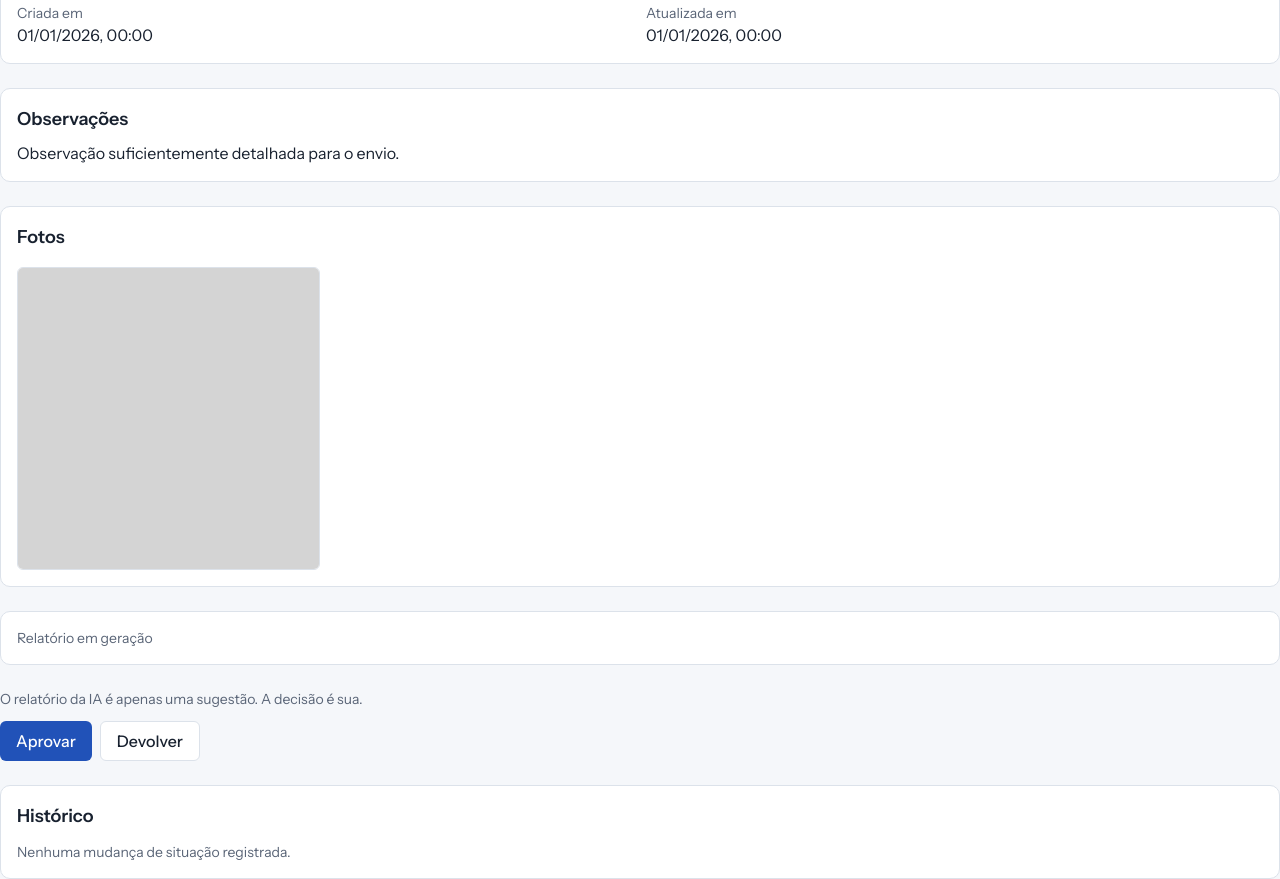
Test case: InspectionDetailPage › RN-03: lets the manager approve a submitted inspection
(page scrolled)
Click the button "Aprovar". click: [46, 740]
box: [0,720,92,760]
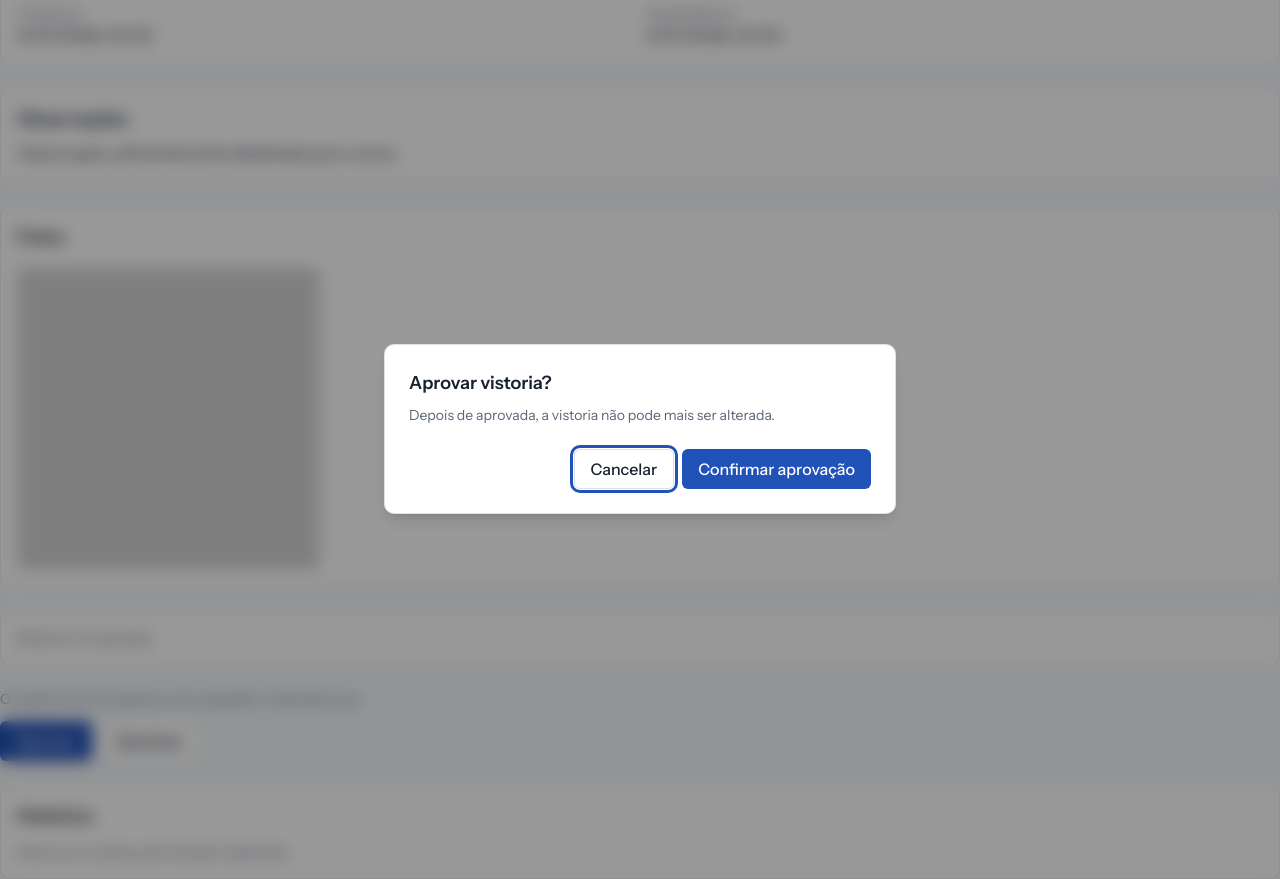
Click the button "Confirmar aprovação". click: [777, 469]
box: [682,449,871,489]
(page scrolled)
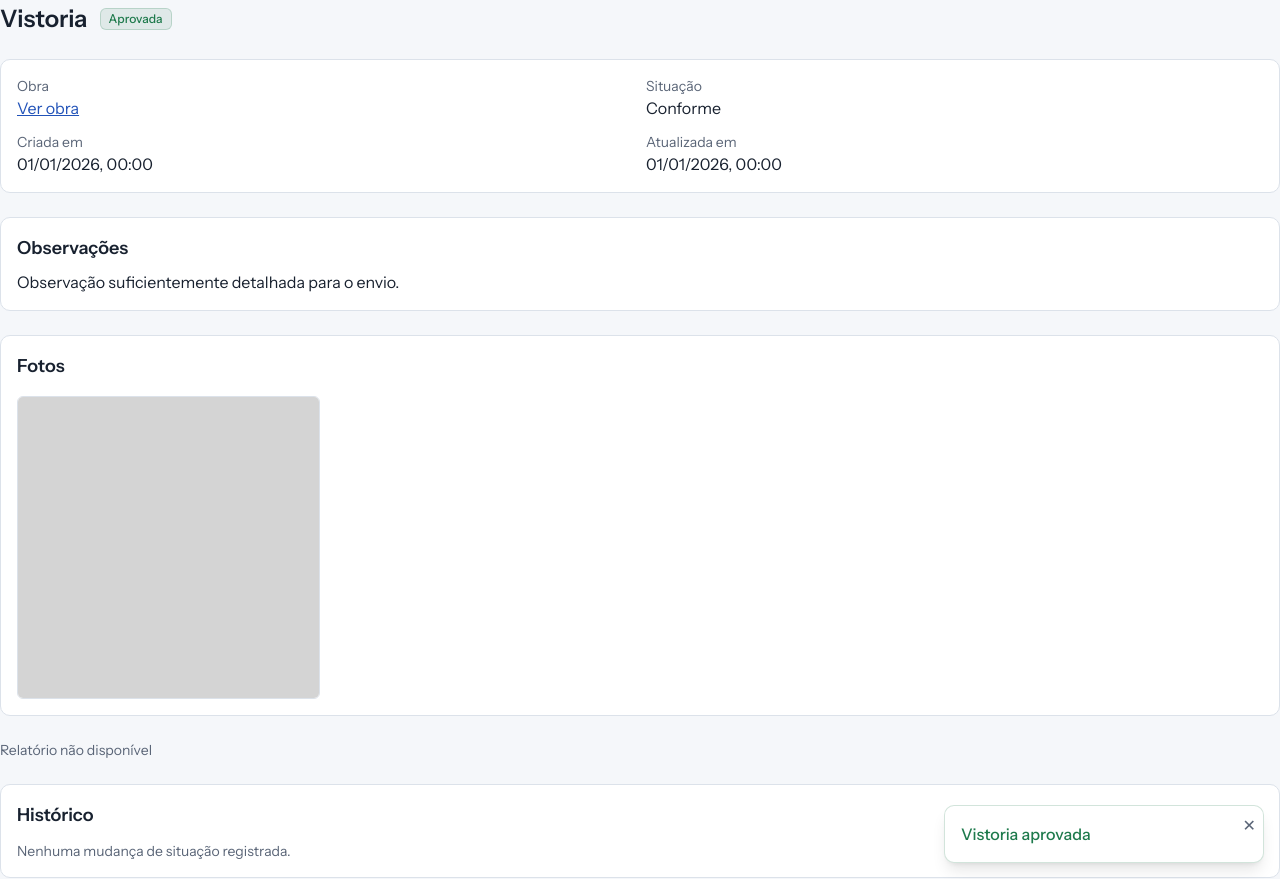
Expected: the text "Vistoria aprovada" is shown, [961,824,1091,844]
Expected: the button "Aprovar" is gone
